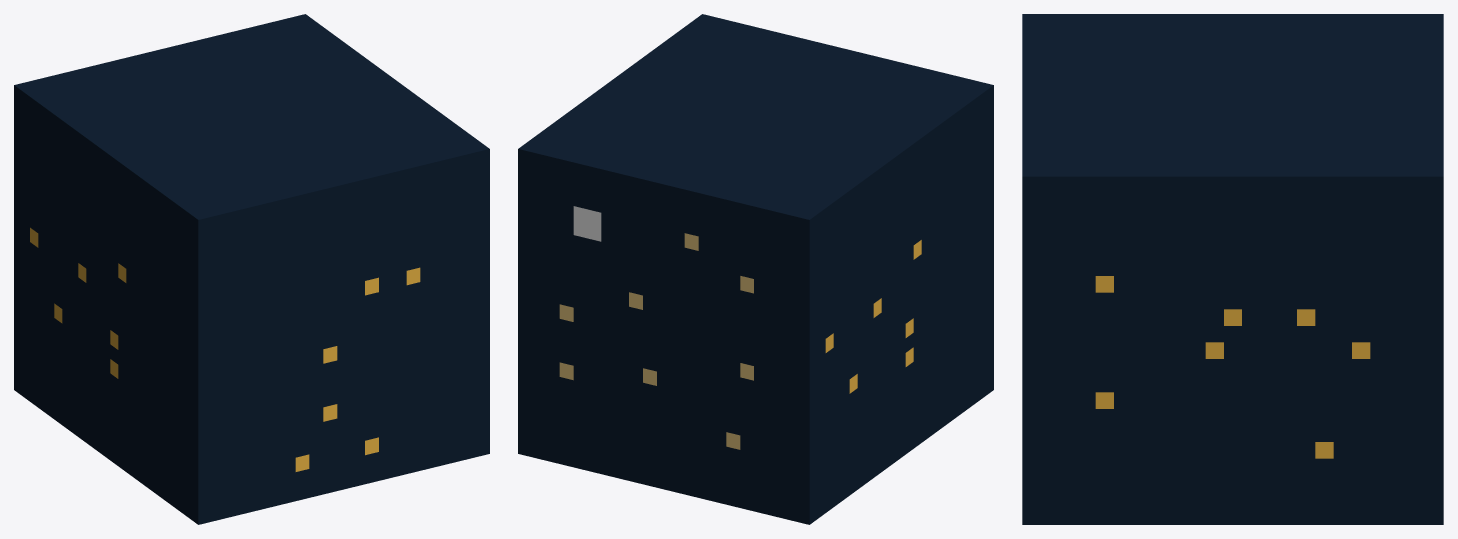
Rendered from city.obj.
3 views of the same model, side by side, from view 1: azimuth 30°, elevation 25°; view 2: azimuth 150°, elevation 25°; view 3: azimuth 270°, elevation 25° (orthographic). The views are drawn at different scales.
Size of the model in its own units: 21 by 21 by 23.
